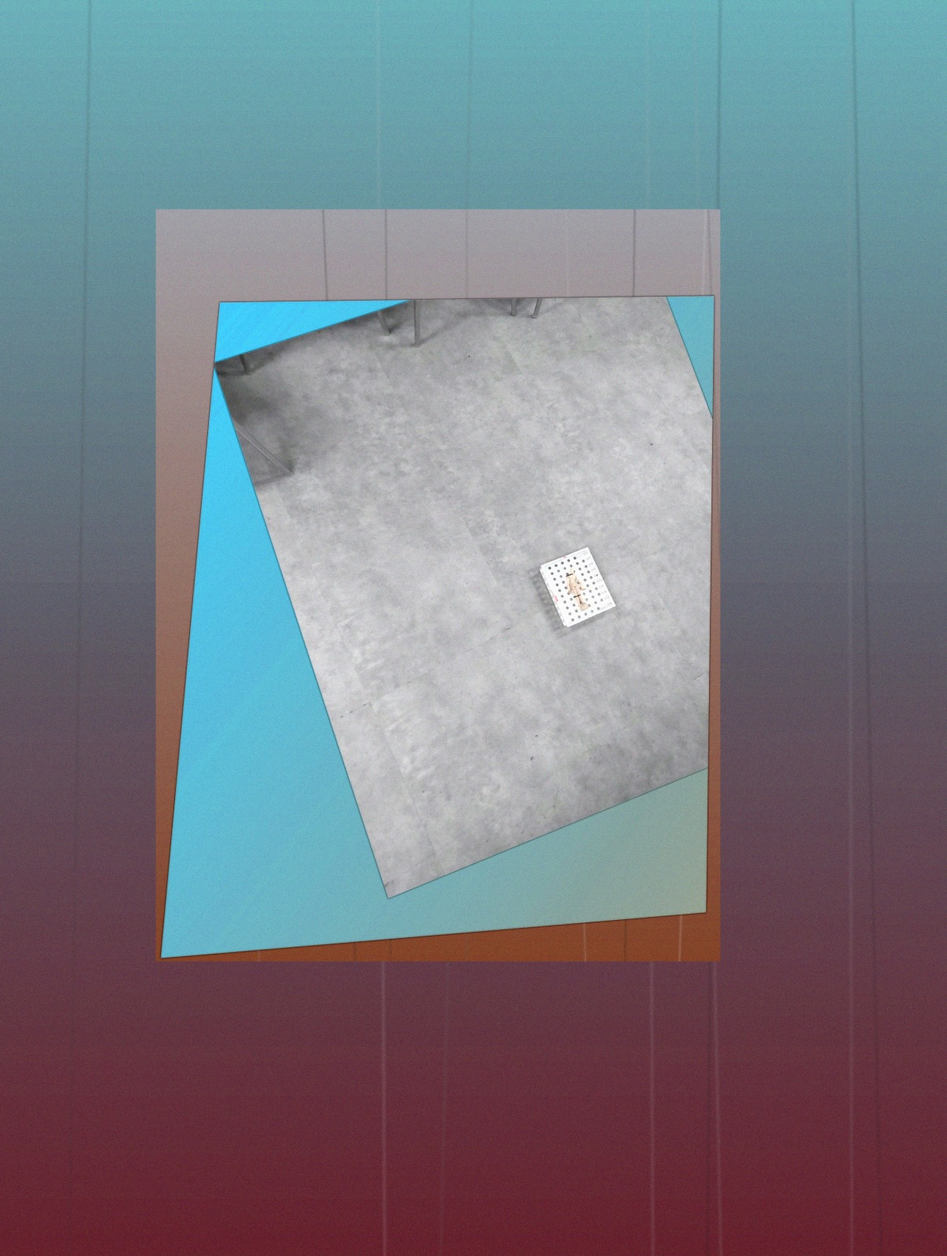basket: (538, 546, 617, 630)
mannequin: (566, 568, 590, 612)
